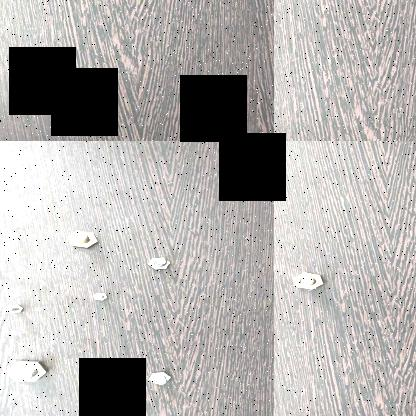Bolts: (1, 354, 51, 386), (64, 226, 98, 252), (77, 394, 115, 416), (286, 271, 326, 290), (141, 254, 175, 274), (146, 370, 176, 388), (2, 300, 26, 316)
